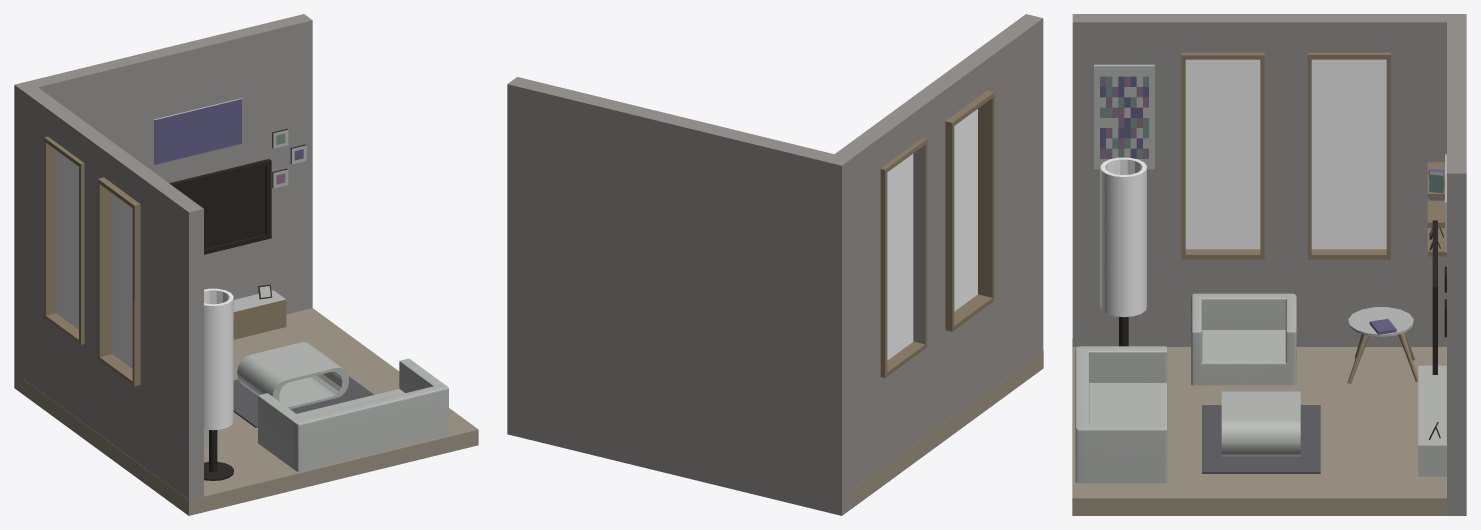
File: WhiteRoomScene1.fbx
3 renders of one model, left to right at view 1: azimuth 30°, elevation 25°; view 2: azimuth 150°, elevation 25°; view 3: azimuth 270°, elevation 25°, orthographic. The views are drawn at different scales.
Visible parts, largest first — view 1: polySurface2, pCube2, pCube1, pCube48, pCube45, pCube14, pCube13, pCylinder7, pCube15, pCube31, pCube50, pCylinder6; view 2: pCube2, polySurface2, pCube45, pCube1; view 3: polySurface2, pCube1, pCube45, pCube48, pCube2, pCube49, pCylinder7, pCube19, pCube13, pCube50, pCube31, pCylinder1 (+2 smaller).
Boxes of the visible parts, bbox=[...] form: polySurface2: bbox=[22, 86, 203, 499]; pCube2: bbox=[14, 14, 312, 393]; pCube1: bbox=[21, 308, 478, 515]; pCube48: bbox=[258, 358, 448, 471]; pCube45: bbox=[56, 150, 132, 368]; pCube14: bbox=[169, 159, 271, 254]; pCube13: bbox=[237, 342, 348, 409]; pCylinder7: bbox=[204, 288, 233, 430]; pCube15: bbox=[154, 98, 241, 164]; pCube31: bbox=[233, 290, 286, 339]; pCube50: bbox=[233, 376, 373, 427]; pCylinder6: bbox=[204, 430, 233, 480]; pCube2: bbox=[507, 77, 851, 515]; polySurface2: bbox=[834, 14, 1043, 489]; pCube45: bbox=[887, 109, 977, 360]; pCube1: bbox=[850, 350, 1043, 509]; polySurface2: bbox=[1072, 14, 1449, 346]; pCube1: bbox=[1072, 339, 1449, 515]; pCube45: bbox=[1185, 59, 1386, 249]; pCube48: bbox=[1075, 346, 1167, 483]; pCube2: bbox=[1447, 14, 1466, 515]; pCube49: bbox=[1191, 293, 1296, 385]; pCylinder7: bbox=[1100, 157, 1146, 317]; pCube19: bbox=[1094, 64, 1154, 169]; pCube13: bbox=[1221, 390, 1300, 456]; pCube50: bbox=[1202, 405, 1320, 473]; pCube31: bbox=[1418, 365, 1446, 476]; pCylinder1: bbox=[1348, 307, 1413, 336].
Size of the model in its own units: 19.8 by 19.4 by 20.25.
